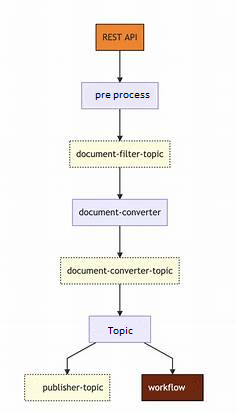arrow: (61, 342, 97, 375), (142, 342, 176, 375), (114, 283, 127, 316), (114, 166, 126, 200), (115, 50, 124, 82), (116, 224, 124, 258), (116, 108, 124, 142)
process: (57, 255, 184, 286), (66, 138, 172, 170), (70, 198, 171, 228), (22, 373, 114, 403), (79, 79, 161, 112), (86, 314, 153, 345), (140, 373, 206, 402), (94, 22, 147, 52)
text: (66, 265, 174, 278), (74, 148, 167, 160), (76, 207, 163, 217), (41, 382, 107, 393), (93, 90, 151, 101), (146, 381, 187, 392), (101, 32, 139, 42), (105, 325, 135, 337)
